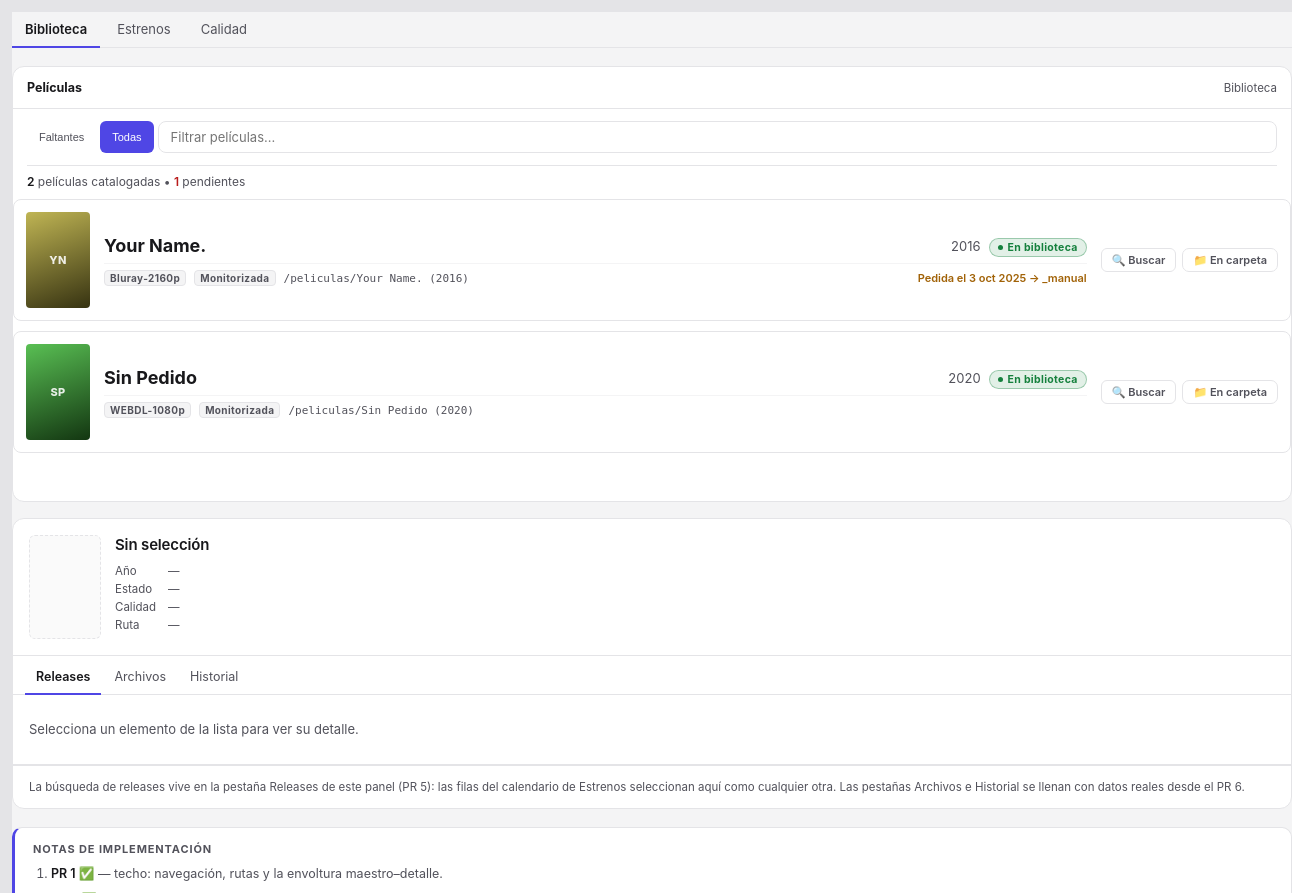
Test: sections · PR 6 — the detail tabs › Películas · Historial says the app never asked when the row carries no grab
Expected: the text "Sin Pedido" is shown, [104,367,197,388]
Click the element with class "sec-row" that starts with "Sin Pedido": point(652, 392) [13,331,1291,453]
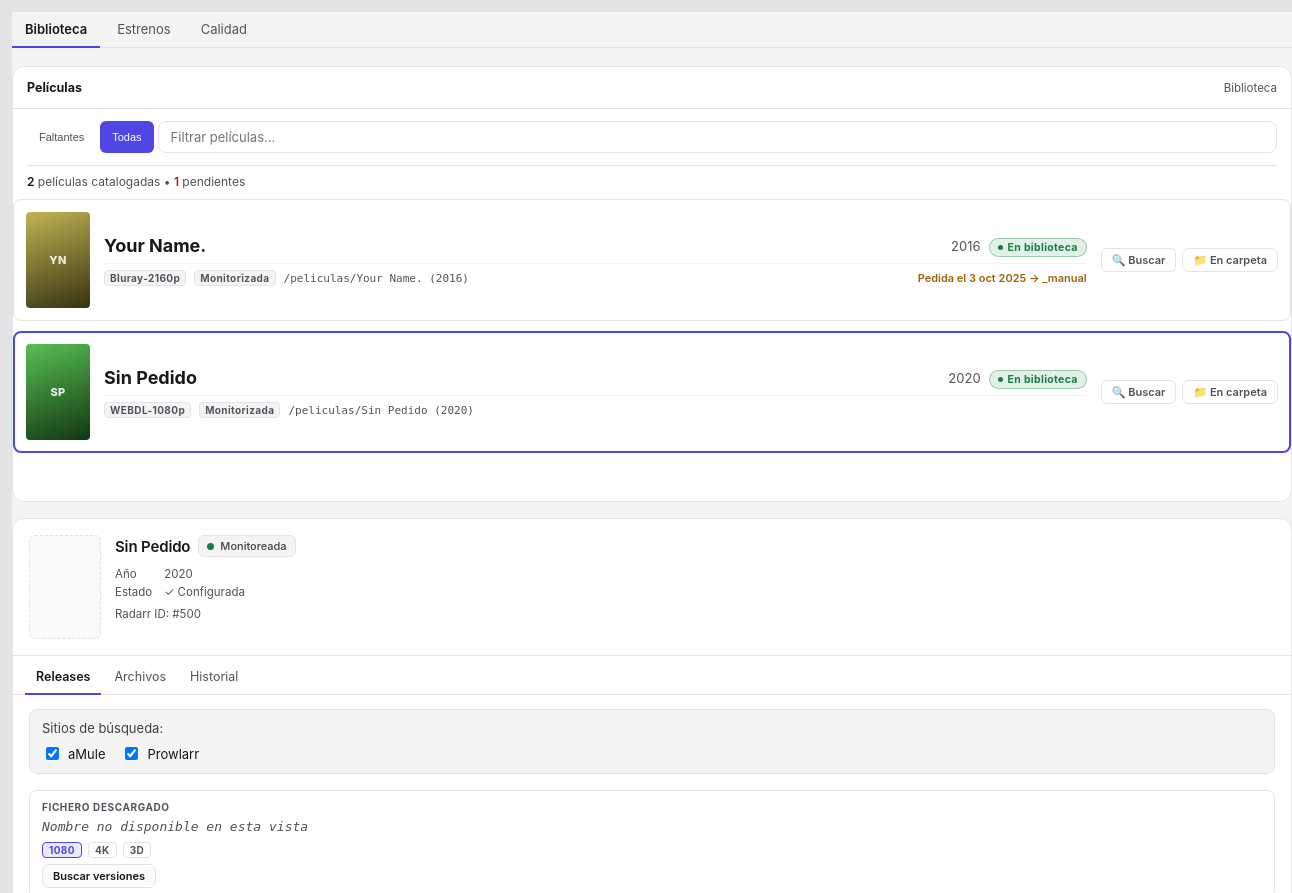
Click the button "Historial": point(214, 678) [179,660,249,695]
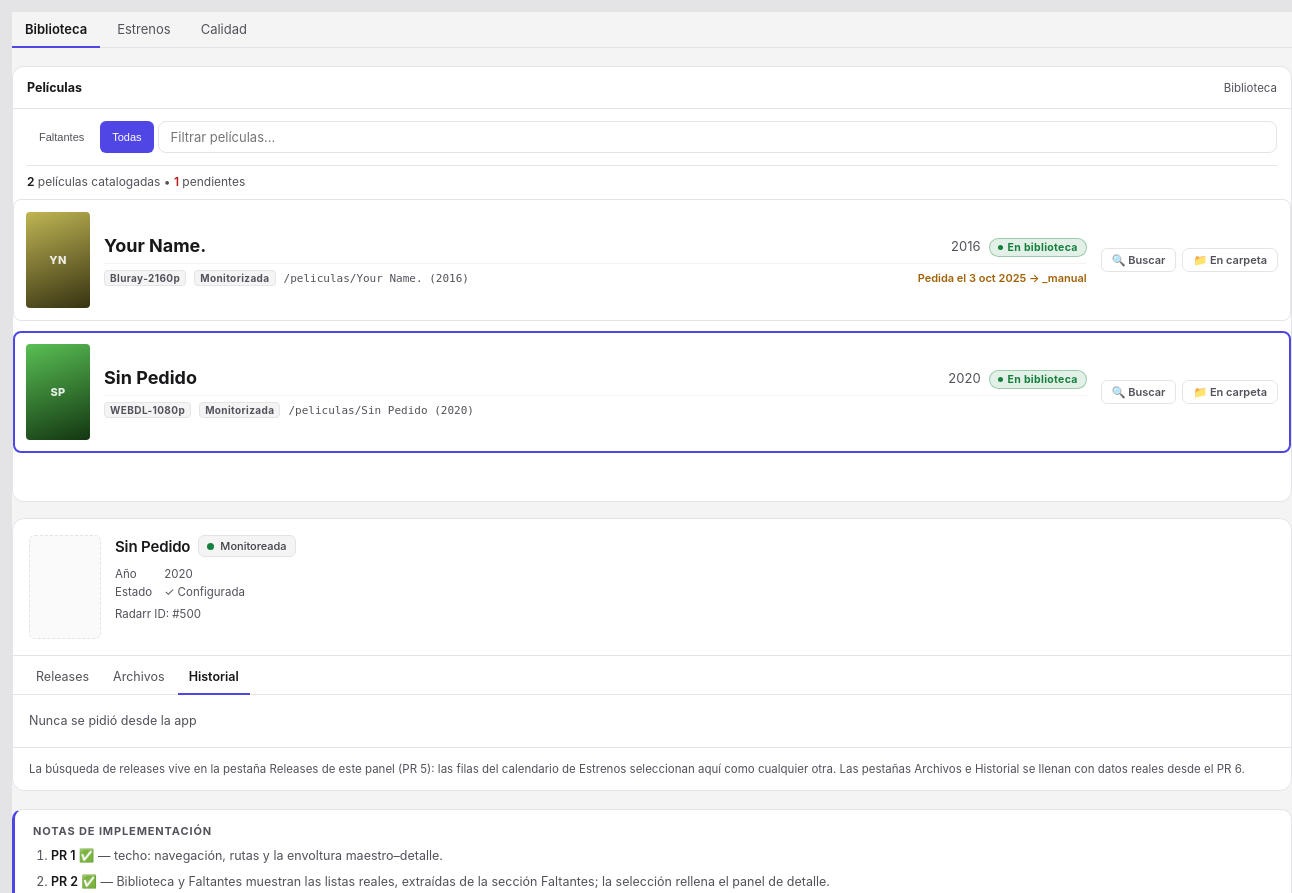
Result: the text "Nunca se pidió desde la app" is shown at [29,713,197,728]
